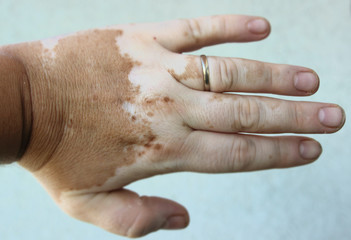vitiligo: (91, 26, 270, 172)
